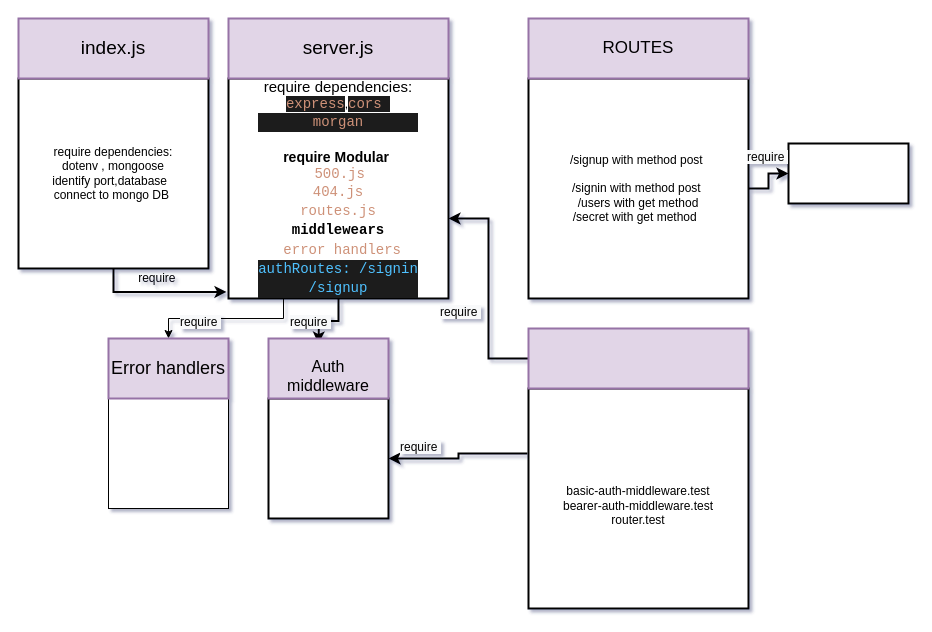
Image size: 932x632. Some labels were removed from this diagram. Each missing label, with the box of its shape:
--test--: (527, 327, 749, 389)
404.js 500.js: (108, 388, 228, 508)
basic.js bearer.js: (267, 397, 389, 519)
Models/router.js schema: (787, 142, 909, 204)
